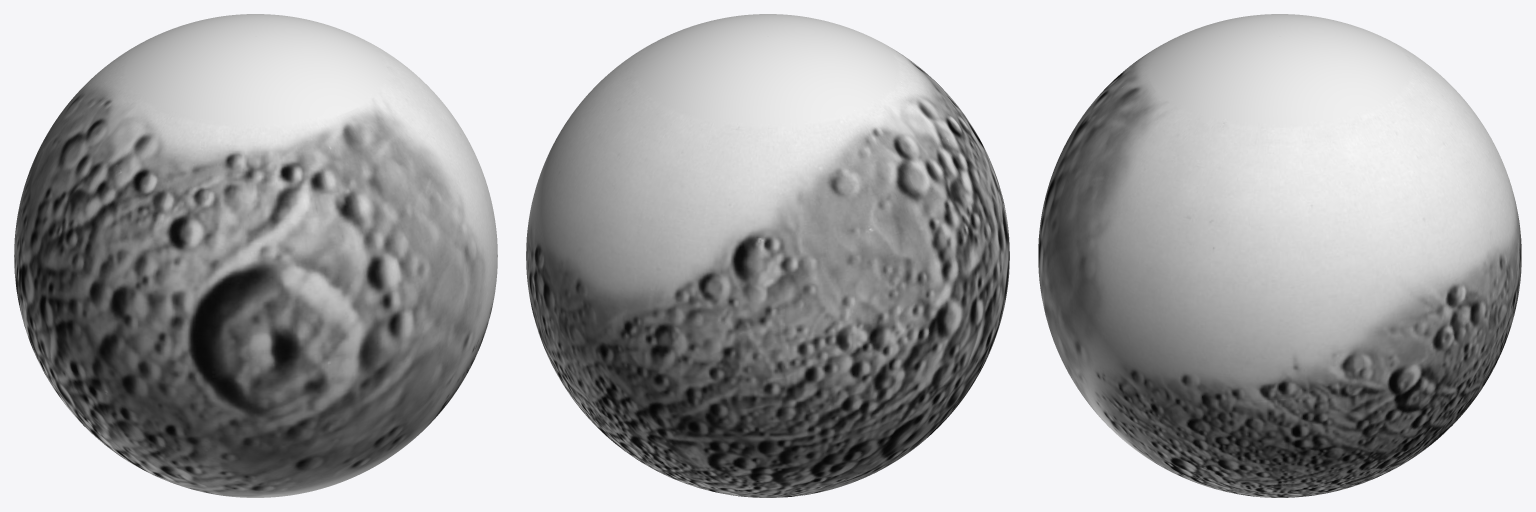
File: mimas.glb
The picture shows the model from 3 angles, left to right: view 1: azimuth 30°, elevation 25°; view 2: azimuth 150°, elevation 25°; view 3: azimuth 270°, elevation 25°; orthographic projection.
Visible parts, largest first — view 1: Mimas_Asset; view 2: Mimas_Asset; view 3: Mimas_Asset.
Part boxes in pixels (x1,y1,x2,y2): Mimas_Asset: [14, 14, 497, 497]; Mimas_Asset: [526, 14, 1009, 497]; Mimas_Asset: [1038, 14, 1521, 497].
Size of the model in its own units: 0.3994 by 0.4 by 0.3994.
1 material, 1 textured.
